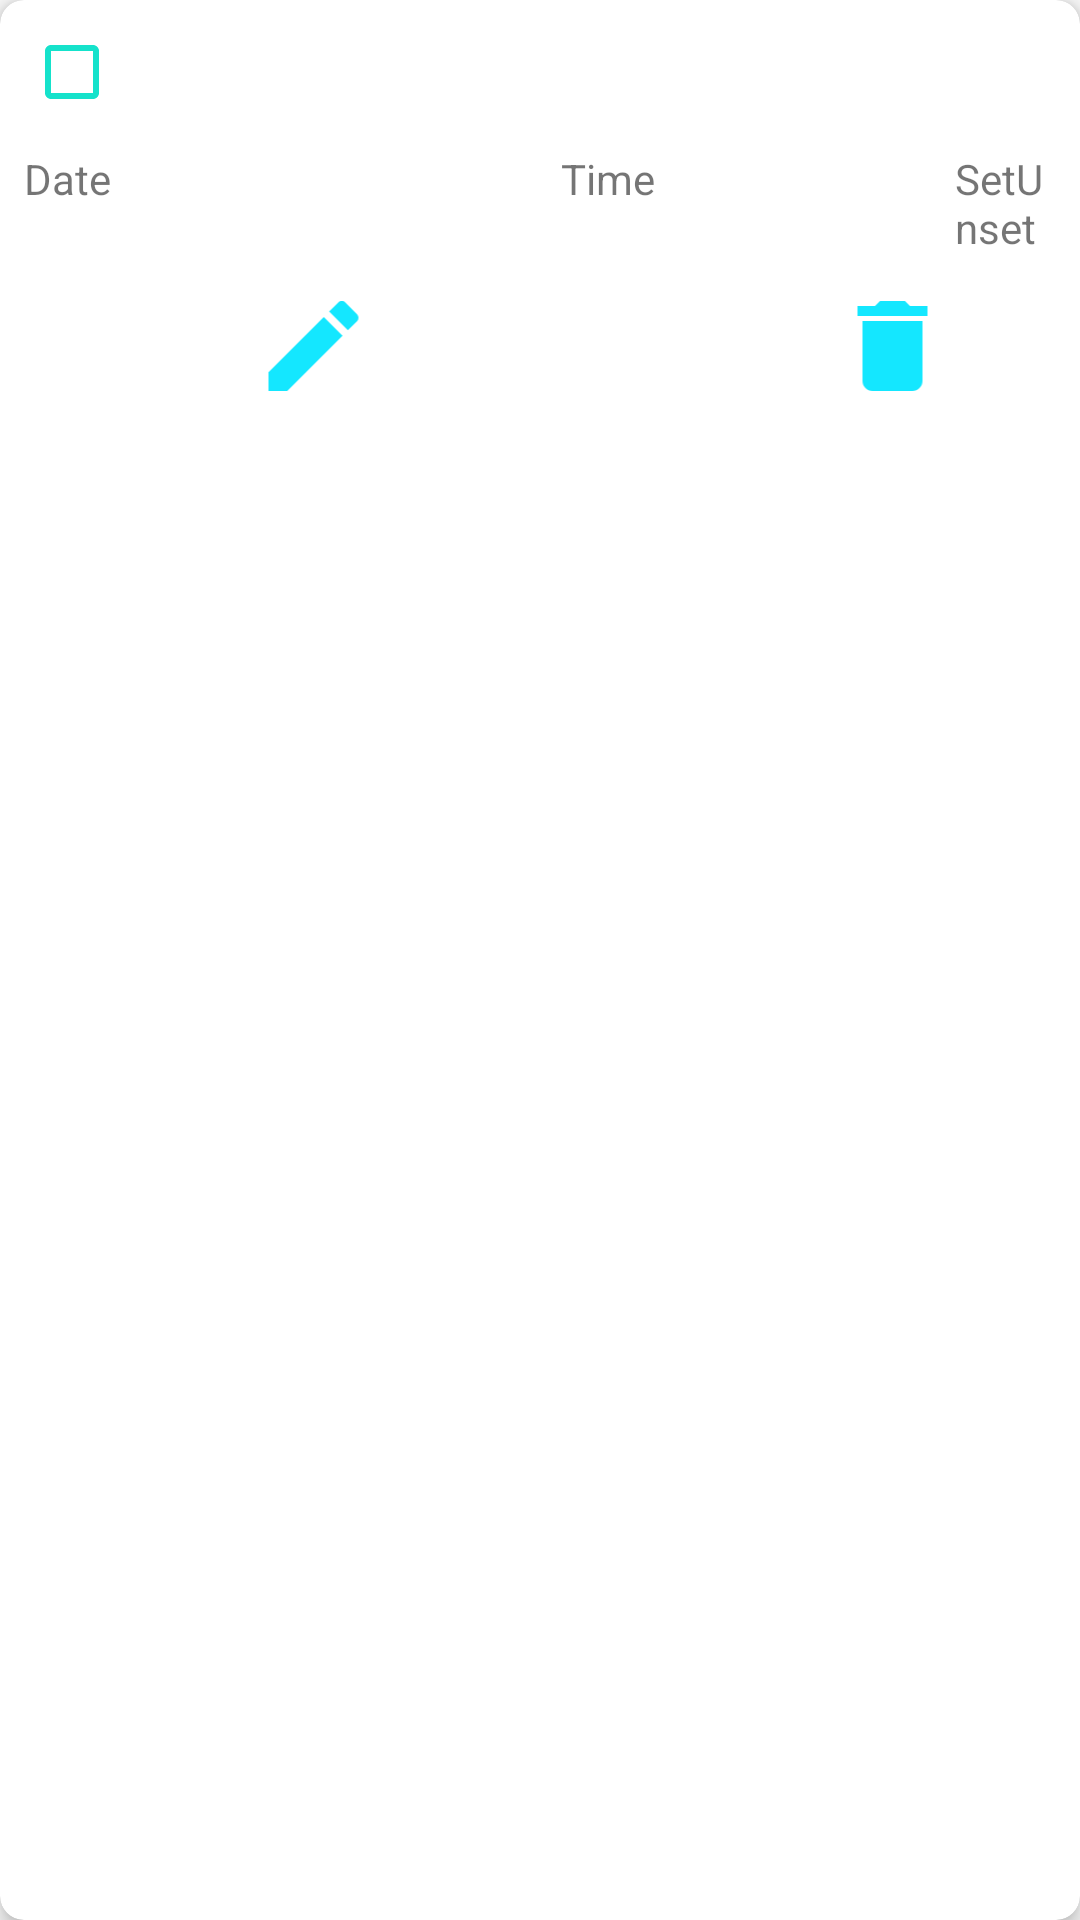

Icon bounding boxes for this 1080 x 1920 phone screenshot, format (x1, y1, x2, y2):
edit: (268, 301, 359, 391)
